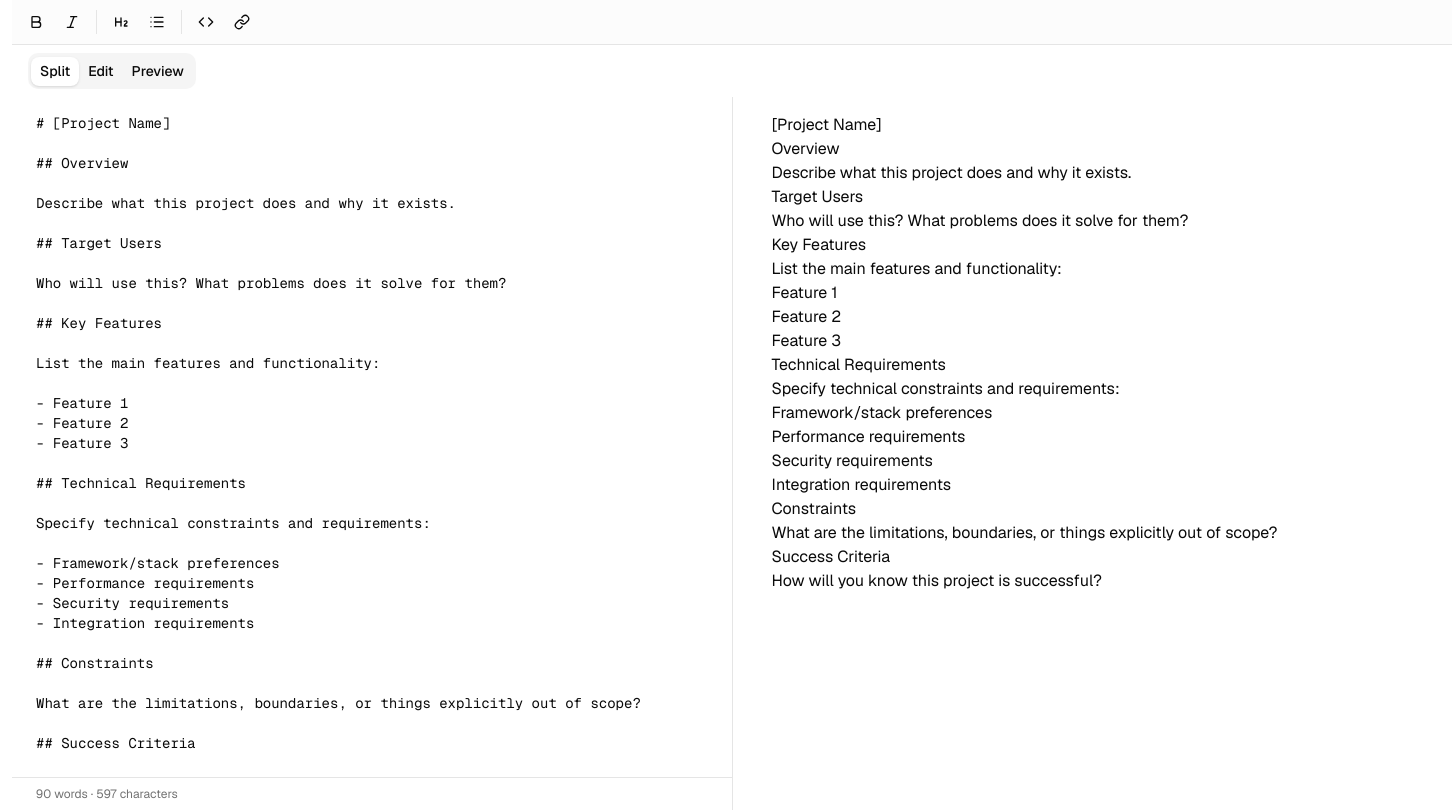
Test: PrdEditor › inserts bold markdown when clicking bold button
This screenshot has width=1452, height=810.
Replace the text in the text box with test id "prd-editor-textarea" with "test" at (372, 437), box 12,97 -> 732,777
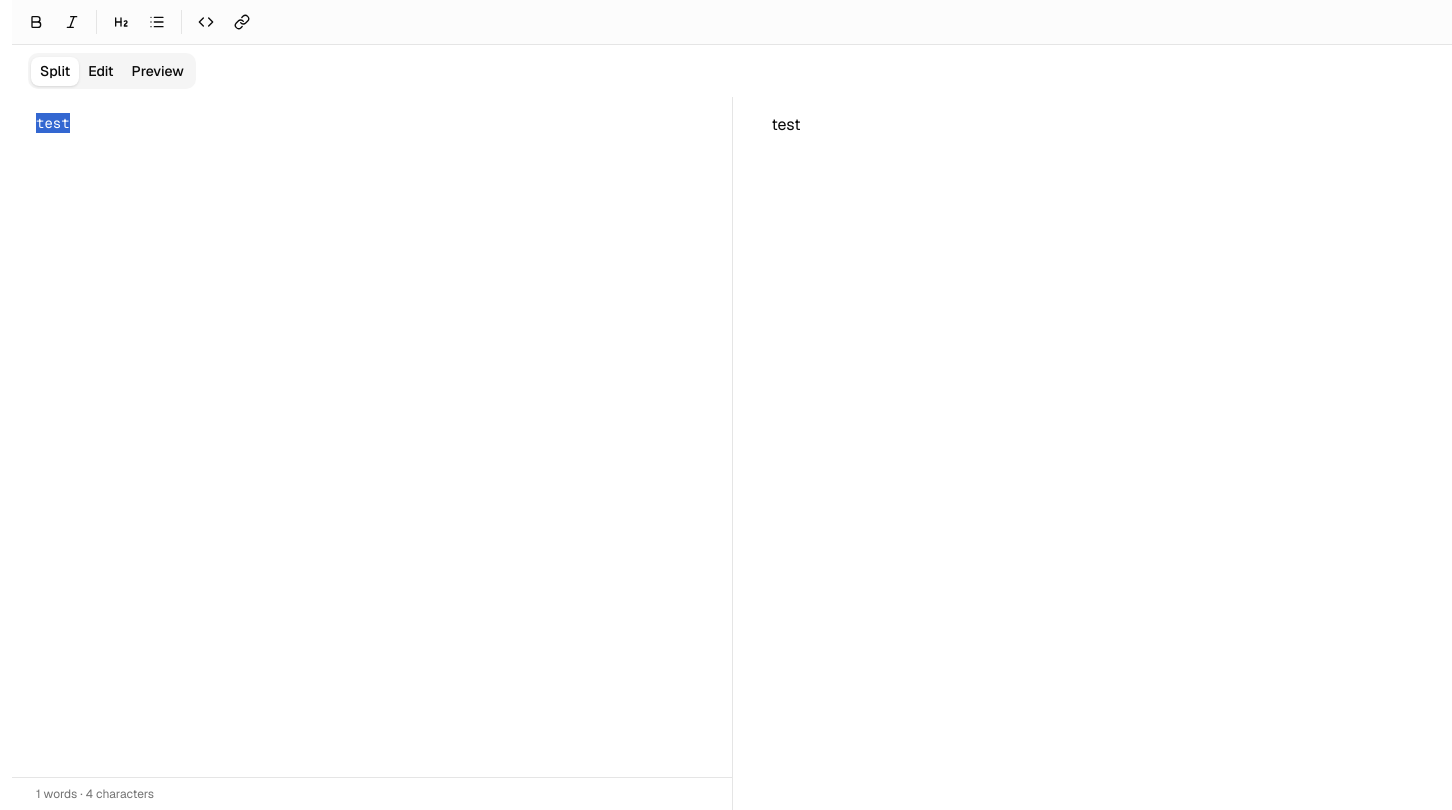
Click the button with test id "toolbar-bold" at (36, 22), box 20,6 -> 52,38
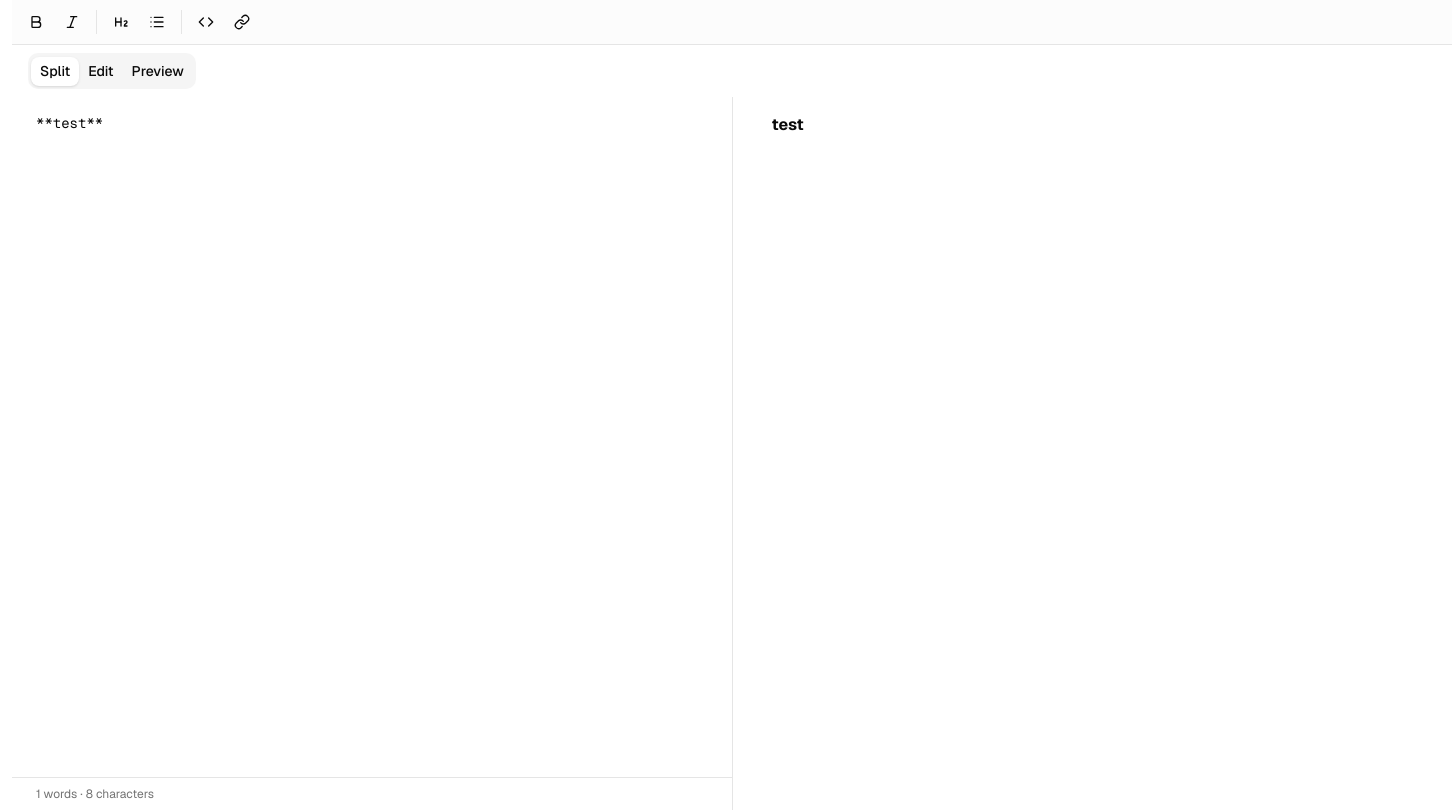
Expected: the text box with test id "prd-editor-textarea" holds "**test**", 12,97 -> 732,777
